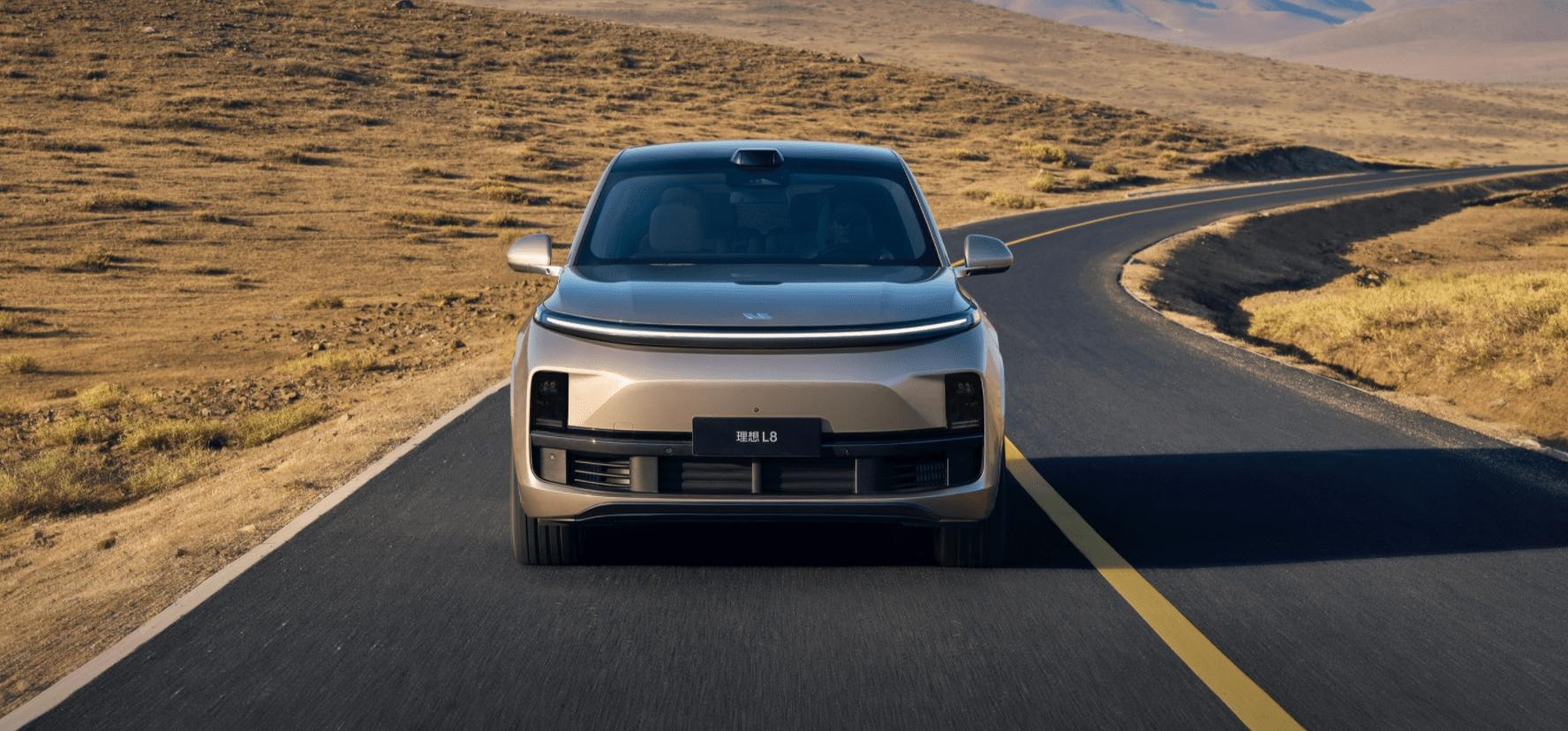Li Auto: (743, 311, 773, 320)
